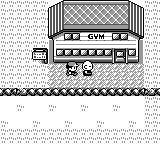leer: (33, 49, 48, 63)
main: (66, 61, 79, 75)
no-caminable: (49, 1, 143, 63)
npc: (81, 61, 94, 76)
puerta: (114, 50, 126, 63)
salto: (0, 88, 159, 96)
